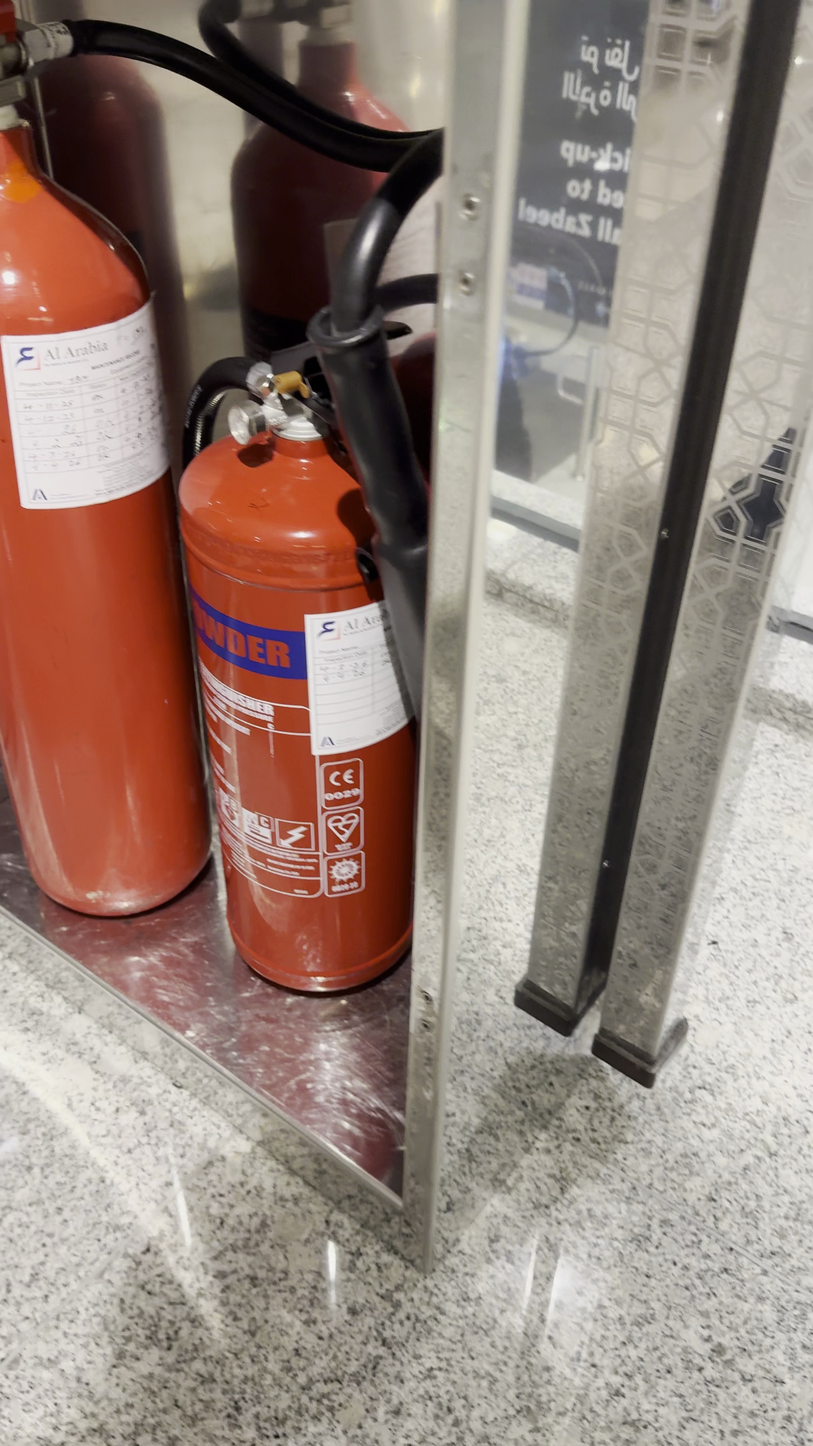fire_extinguisher: (232, 332, 374, 1132)
